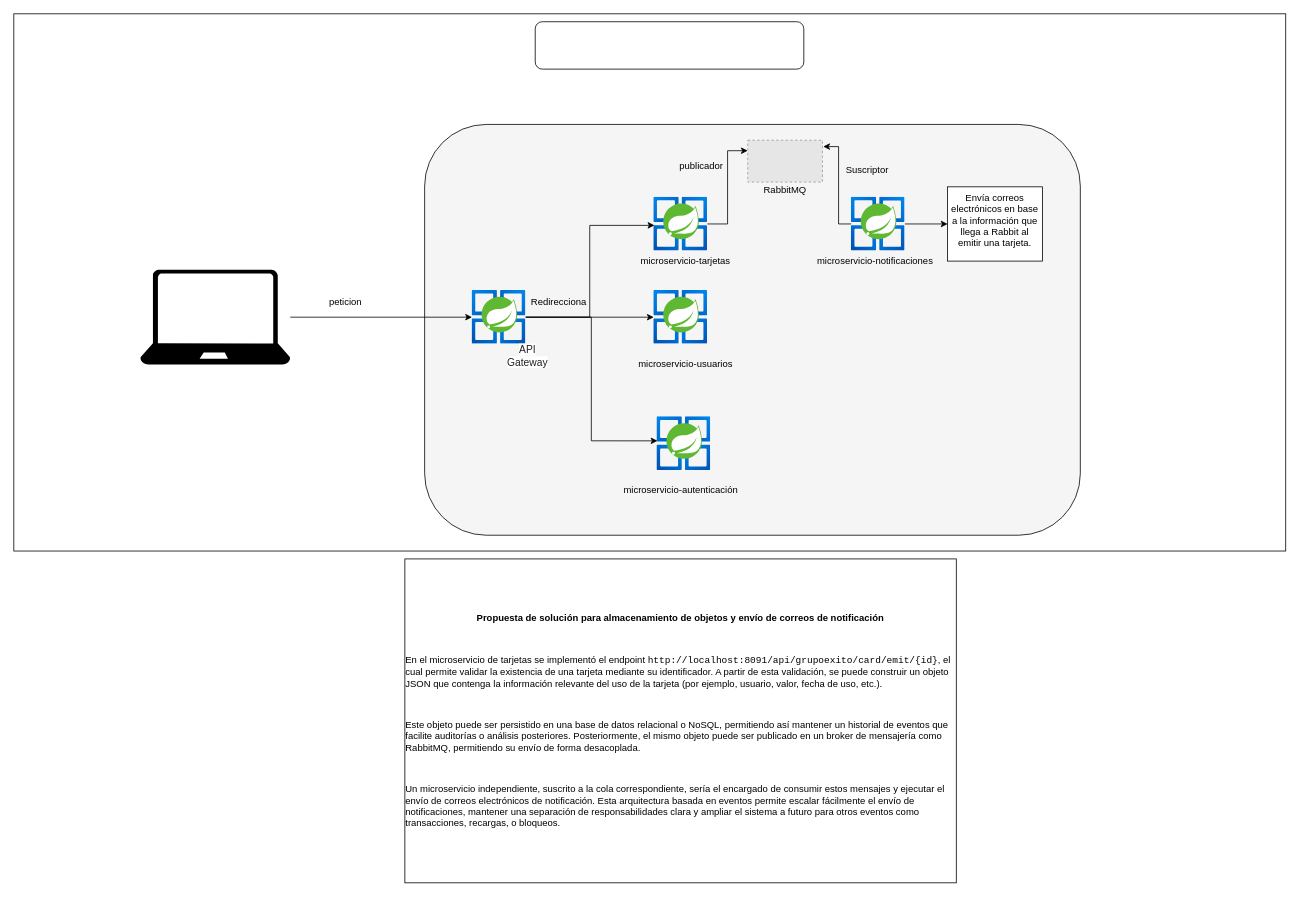
The diagram is 1300 pixels wide and 897 high, and some of its shapes have lost their labels. Grey dashed boxes stand in for pictures. The shapes that lost their labels are listed below. From the top down, each one's centre as x and y in pixels, then its label:
At [669,45]: "Ecosistema de microservicios".
At [215,316]: "Cliente".
